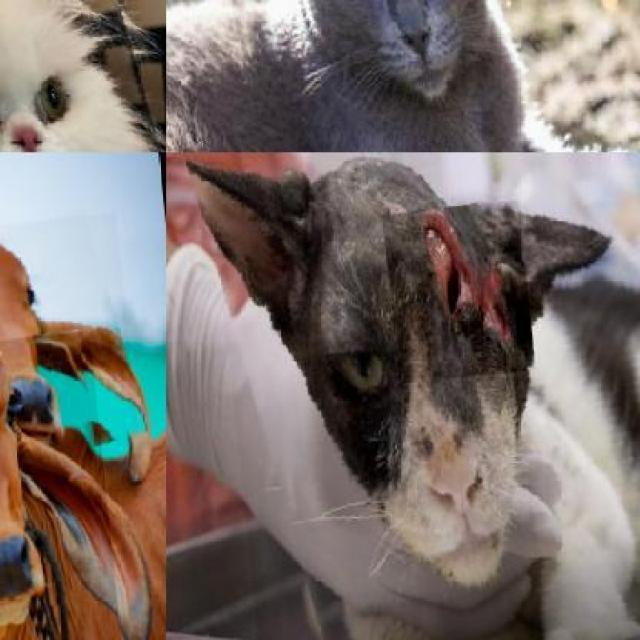cat: (200, 152, 640, 640), (166, 0, 640, 152), (0, 0, 166, 152)
cow: (0, 329, 131, 640), (0, 211, 140, 480)
injured: (382, 199, 536, 383)
